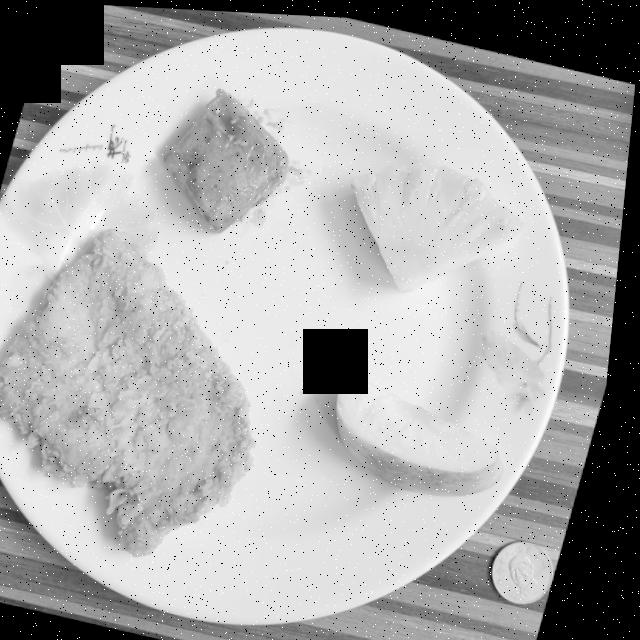apple -sliced-: (343, 372, 512, 491)
coin: (502, 535, 564, 598)
creamy tofu: (166, 86, 292, 230)
fried chicken cutlet: (0, 227, 263, 554)
pineapple: (353, 158, 528, 287)
